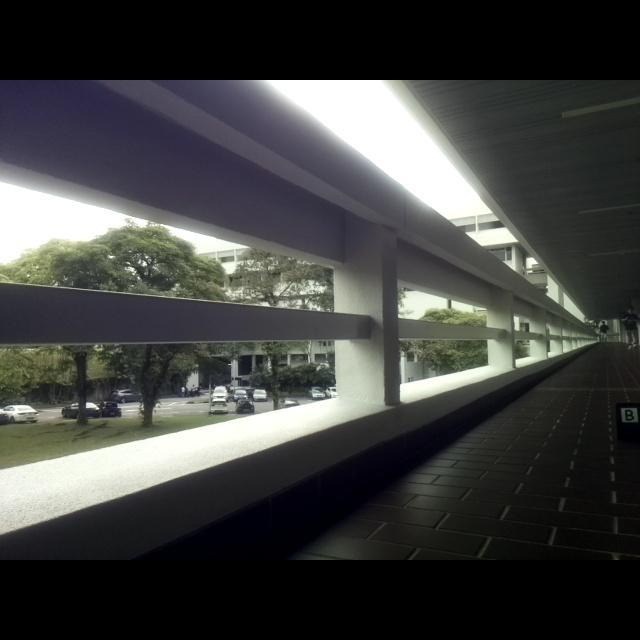B: (624, 408, 634, 422)
